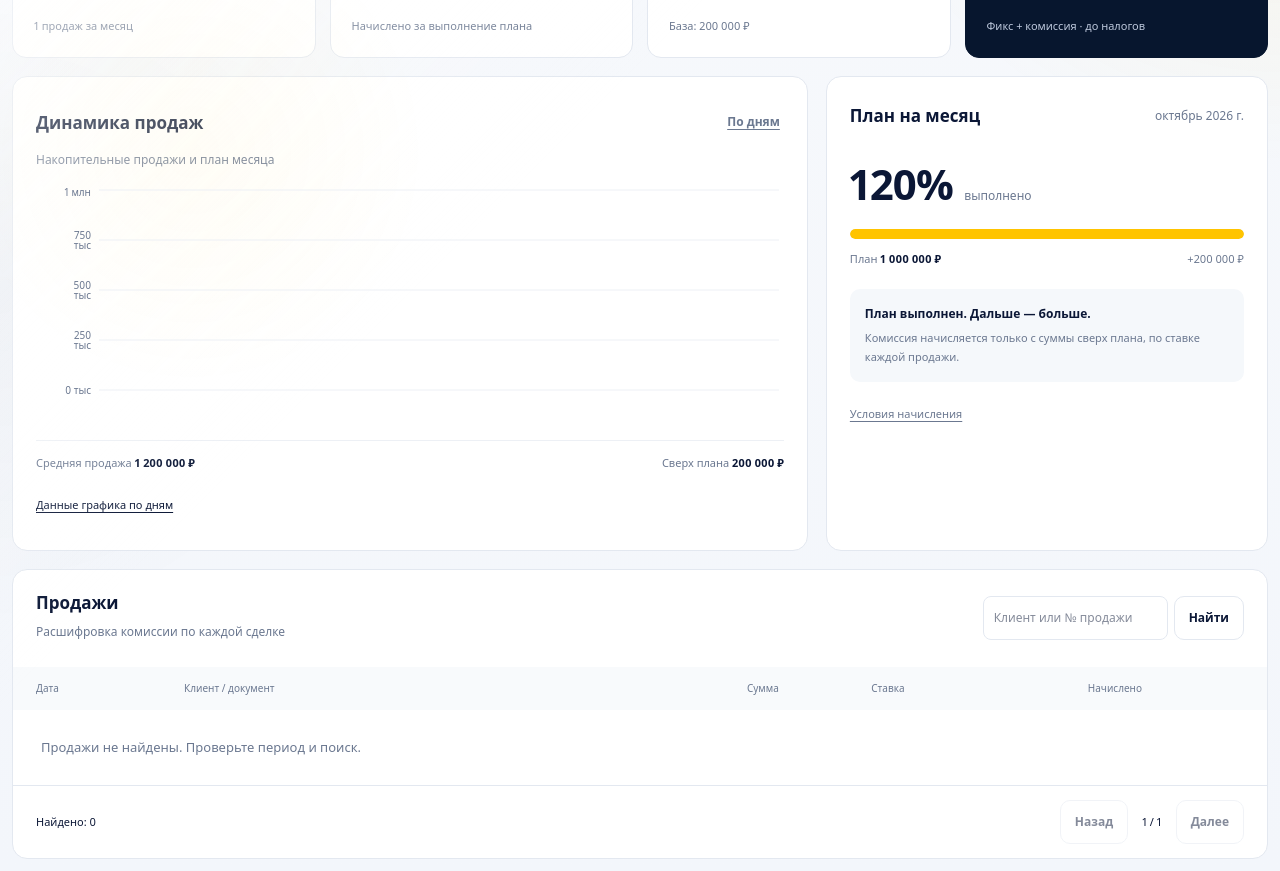
Scenario: manager cabinet async interactions › keeps a rejected search recoverable and repeats the same query and page
This screenshot has width=1280, height=871.
(page scrolled)
Type "ООО Ромашка" into the field named "Поиск по клиенту или номеру" at point(1075, 618), box [983,596,1168,640]
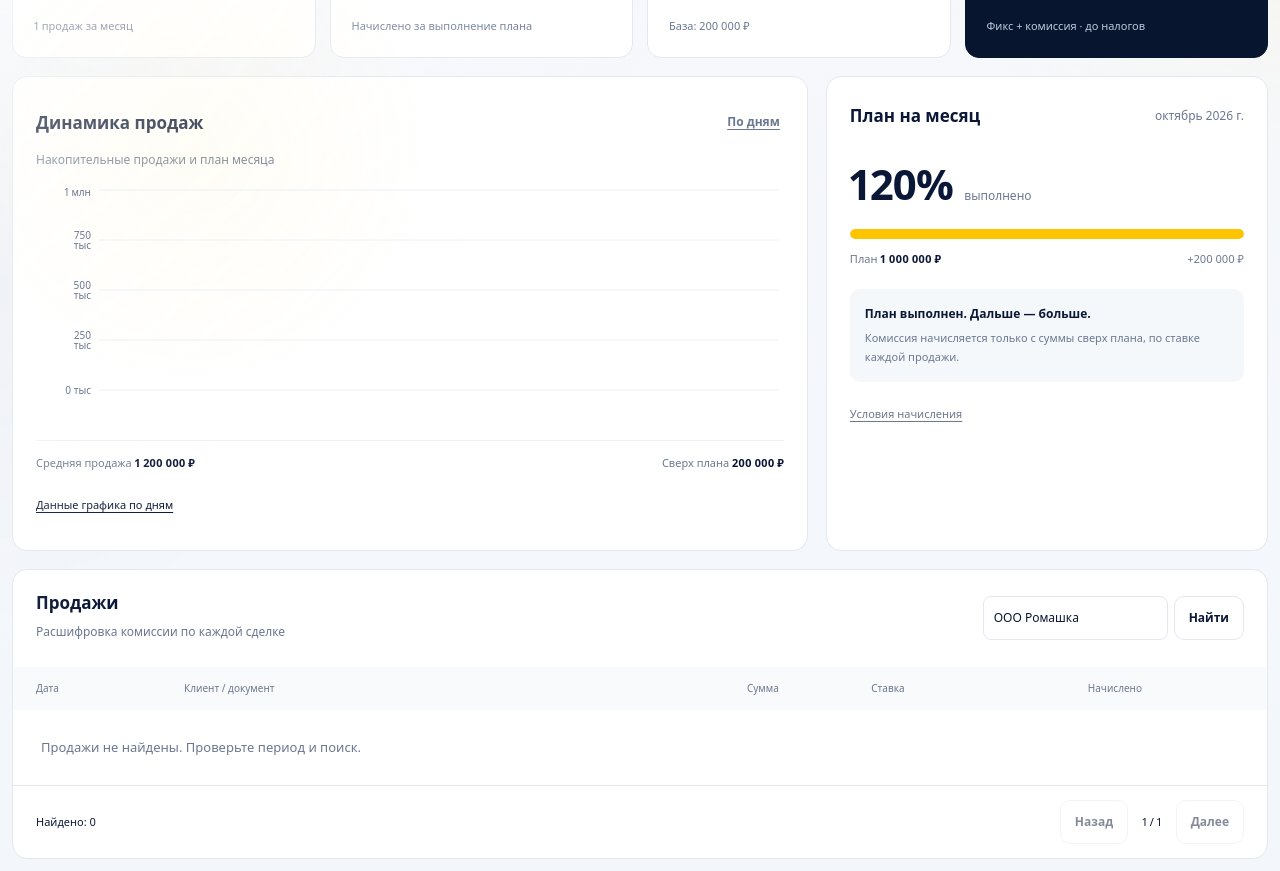
Click the button "Найти" at point(1209, 618), box [1174,596,1244,640]
(page scrolled)
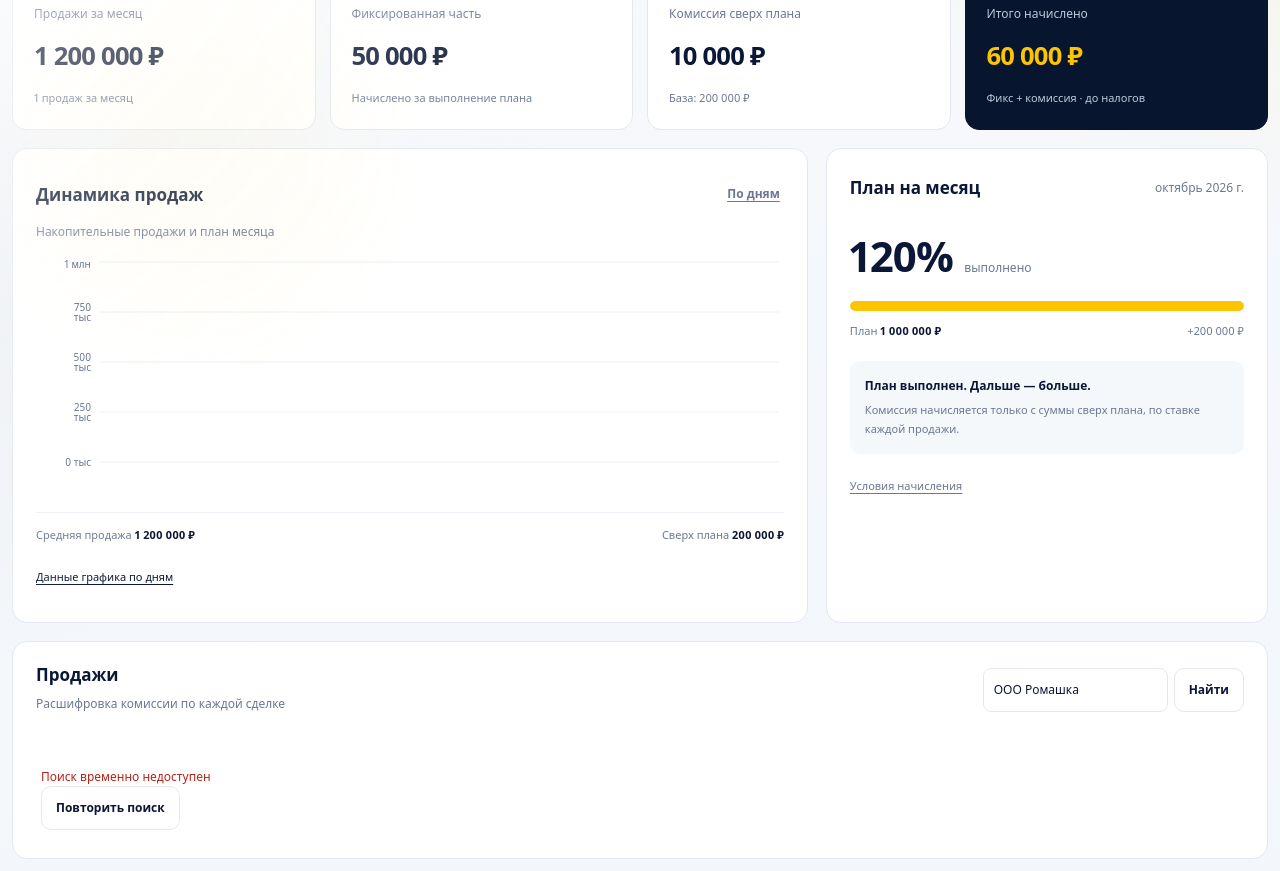
Check: the message reads "Поиск временно недоступен", box [41,768,211,785]
Click the button "Повторить поиск" at point(110, 808), box [41,786,180,830]
(page scrolled)
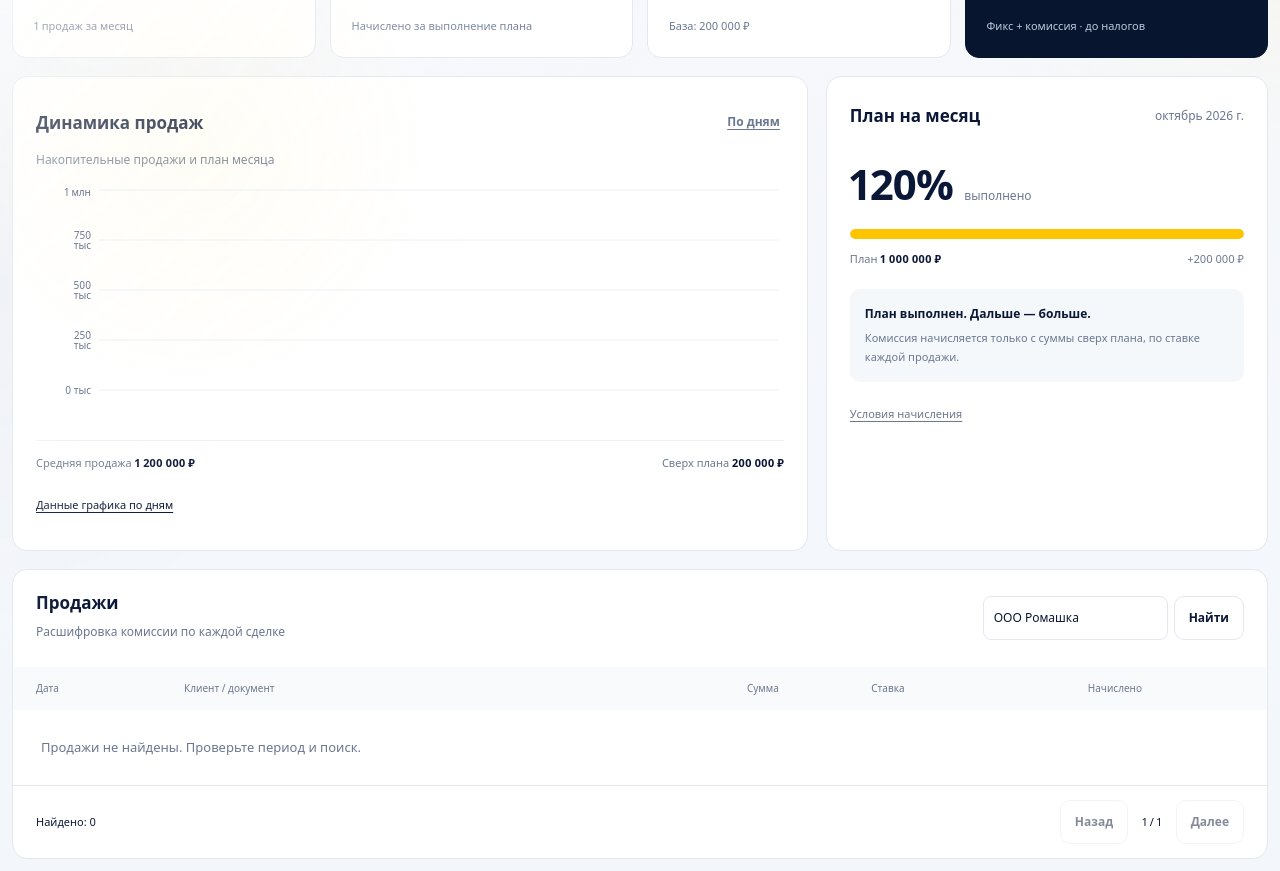
Check: the text "Найдено: 0" is shown, box [36,814,96,830]
